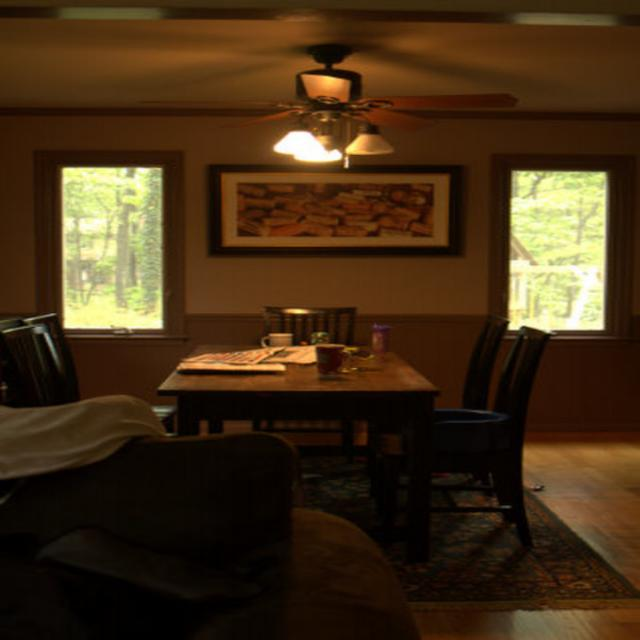Bulb: (147, 41, 515, 172)
